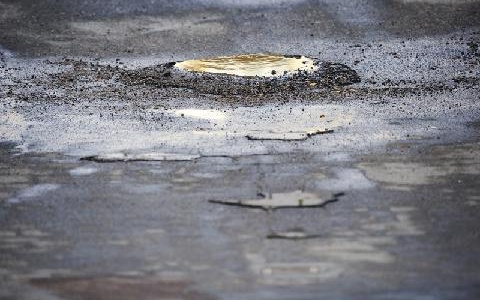pothole: (122, 52, 362, 99), (208, 189, 346, 211), (81, 154, 203, 166), (245, 128, 335, 142), (264, 230, 321, 241)
